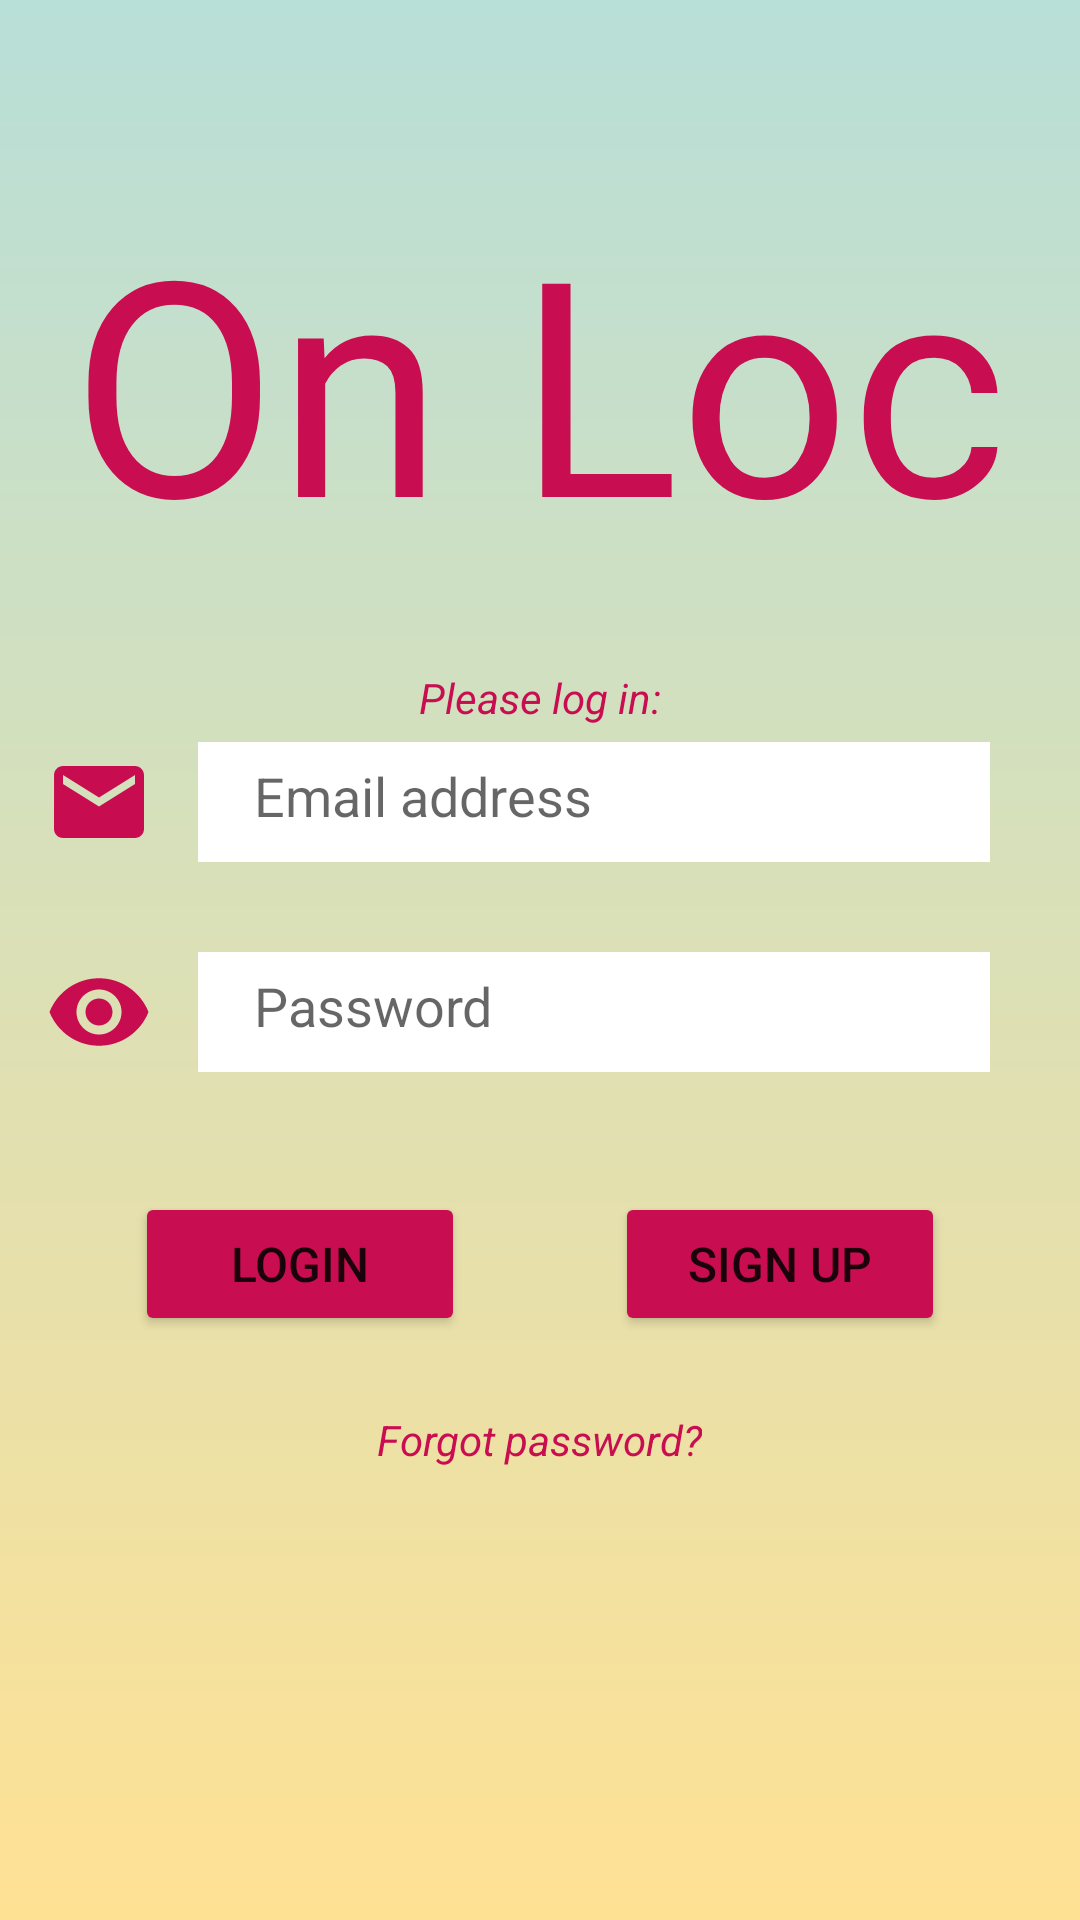

Icon bounding boxes for this 1080w x 1920h phone screenshot, format bbox=[x1, y1, x2, y2]:
eye: bbox=[49, 978, 149, 1046]
